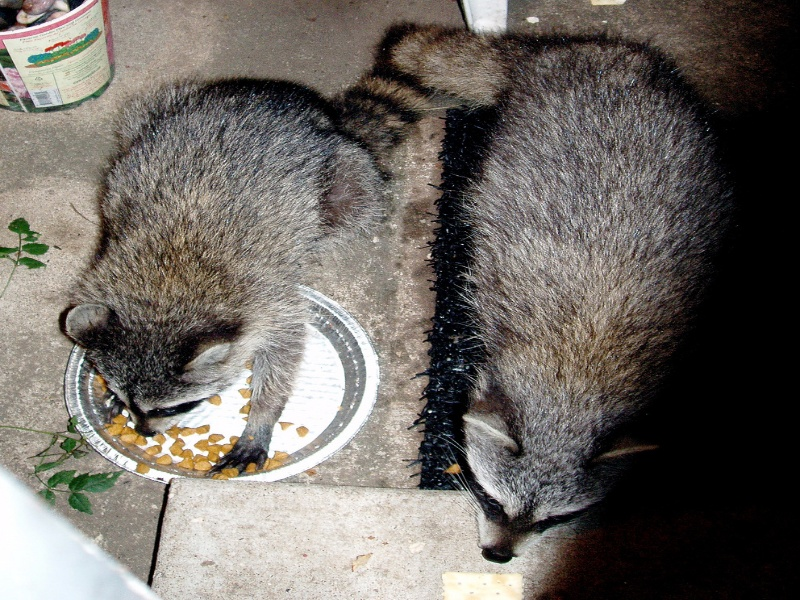raccoon: (378, 18, 710, 569), (60, 34, 451, 475)
